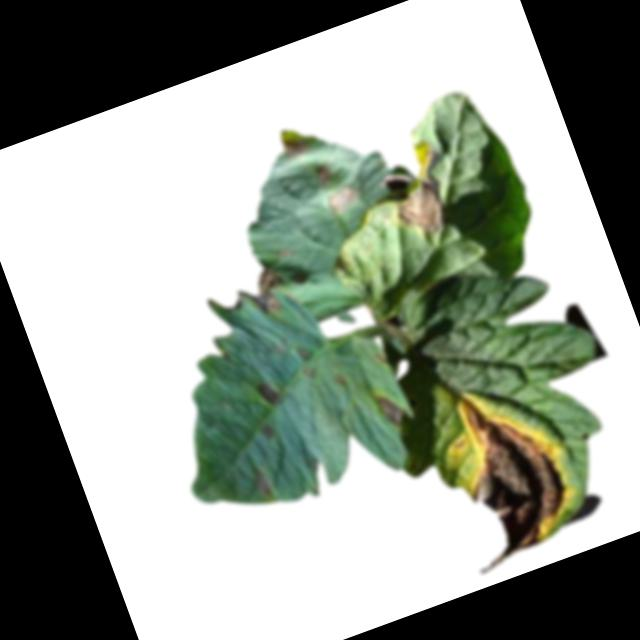Early_blight: (423, 378, 584, 578), (364, 134, 465, 249), (243, 265, 291, 318), (371, 385, 407, 430), (248, 463, 280, 504), (324, 183, 362, 214), (254, 375, 284, 410), (279, 132, 308, 162), (310, 160, 335, 190), (254, 420, 277, 443), (298, 364, 316, 384), (331, 375, 346, 389)
